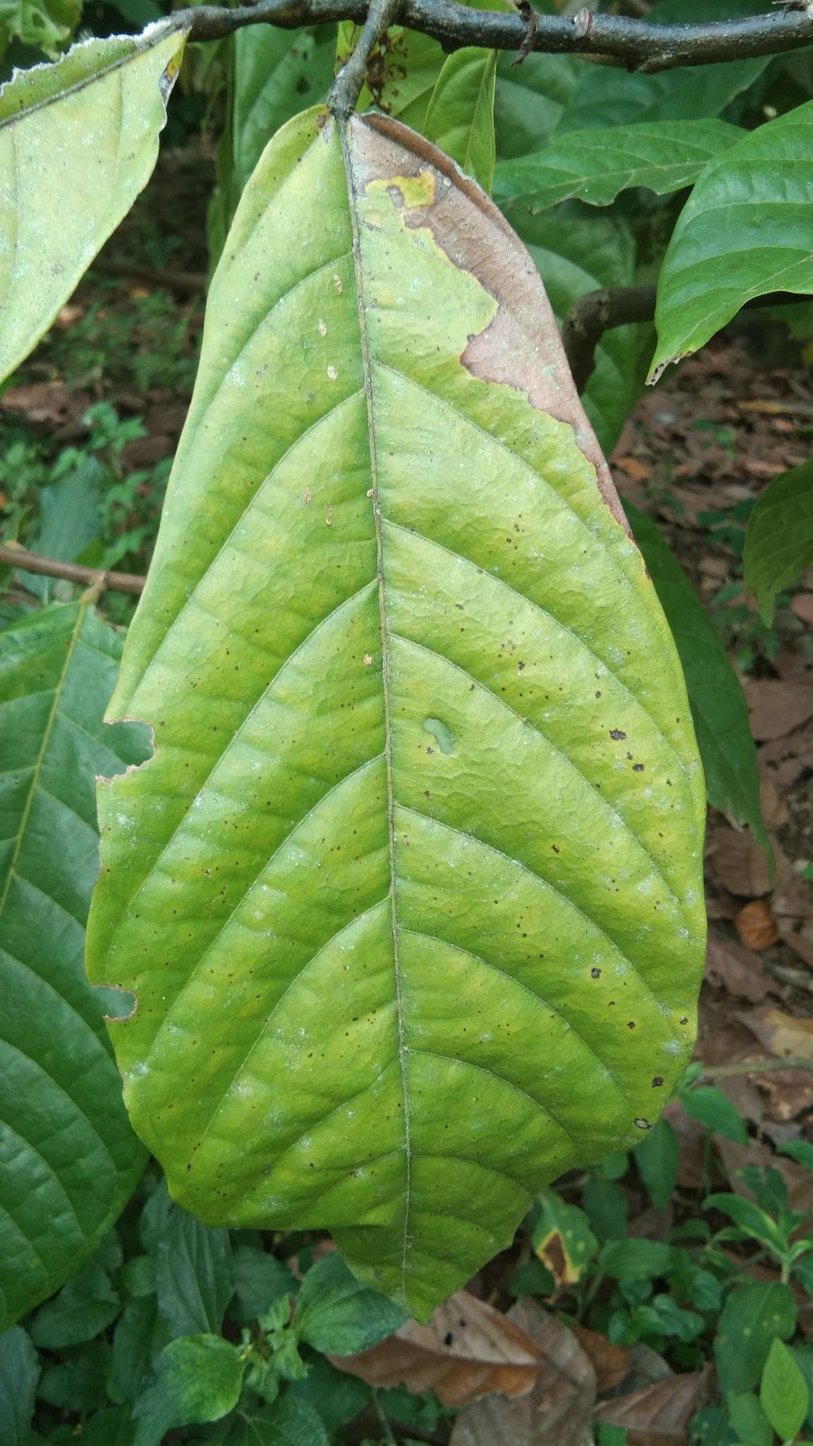Fosforo: (71, 85, 705, 1353)
